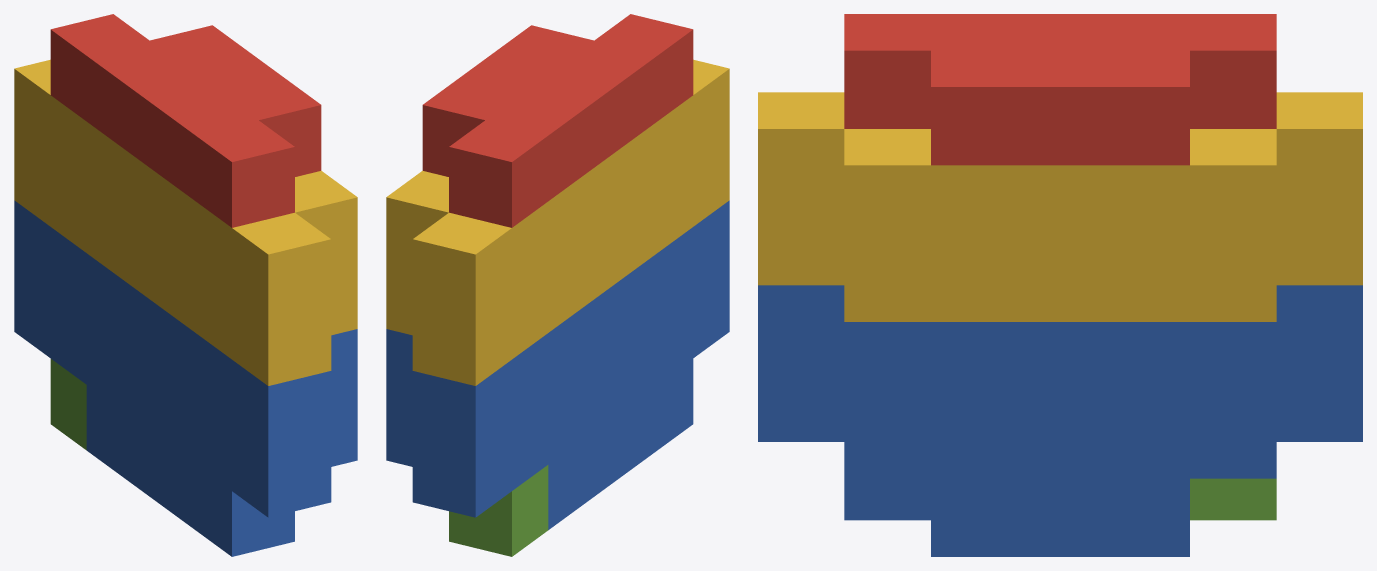
Rendered from parrot__wing_r.glb.
3 views of the same model, side by side, from view 1: azimuth 30°, elevation 25°; view 2: azimuth 150°, elevation 25°; view 3: azimuth 270°, elevation 25° (orthographic). The views are drawn at different scales.
Visible parts, largest first — view 1: parrot__wing_r; view 2: parrot__wing_r; view 3: parrot__wing_r.
Boxes of the visible parts, x1,y1,x2,y2 form: parrot__wing_r: [14, 14, 357, 556]; parrot__wing_r: [386, 14, 729, 556]; parrot__wing_r: [758, 14, 1362, 556].
Bounding box in the file's own units: 0.2 × 0.6 × 0.7.
1 material, 1 textured.
